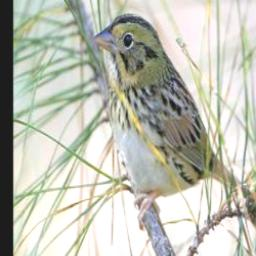Sparrow: (92, 10, 255, 229)
